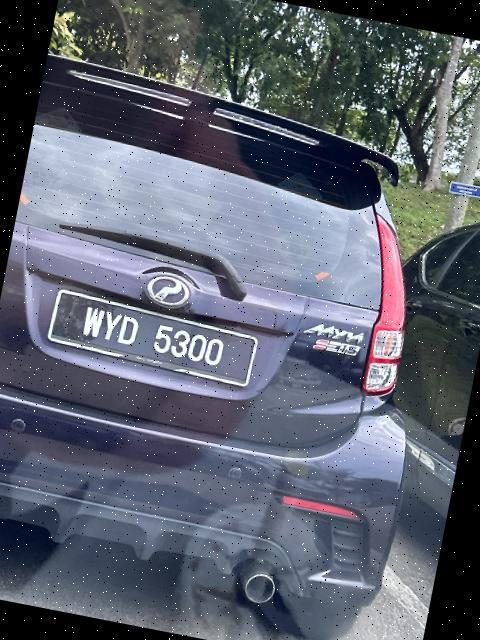License_Plate: (41, 287, 267, 392)
WYD5300: (41, 287, 267, 392)
